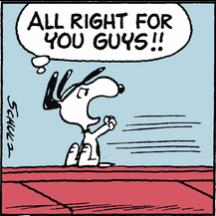snoopy: (42, 66, 126, 166)
